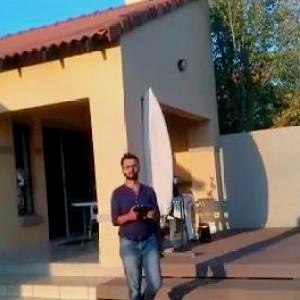follow: (106, 149, 169, 299)
